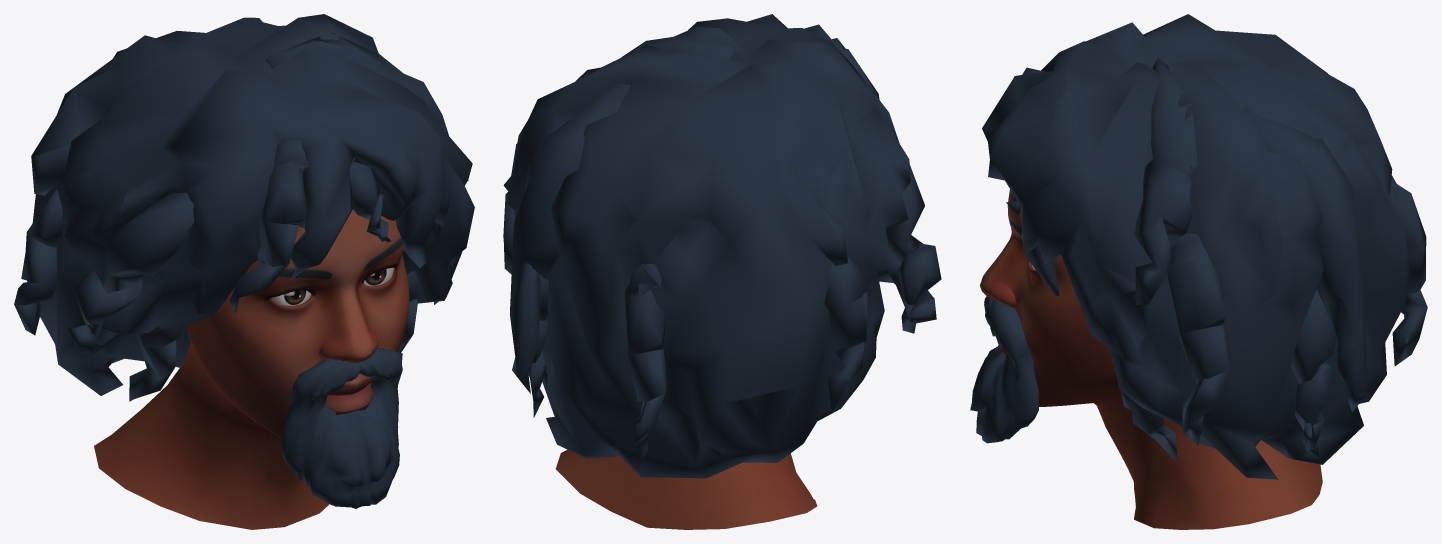
The model's file is DPM.gltf.
3 renders of one model, left to right at view 1: azimuth 30°, elevation 25°; view 2: azimuth 150°, elevation 25°; view 3: azimuth 270°, elevation 25°, orthographic. The views are drawn at different scales.
Parts seen in each view (by area): view 1: Wolf3D_Hair, Wolf3D_Head, Wolf3D_Beard; view 2: Wolf3D_Hair, Wolf3D_Head; view 3: Wolf3D_Hair, Wolf3D_Head, Wolf3D_Beard.
Part boxes in pixels (x1,y1,x2,y2): Wolf3D_Hair: [14, 14, 474, 401]; Wolf3D_Head: [94, 209, 409, 529]; Wolf3D_Beard: [281, 347, 402, 508]; Wolf3D_Hair: [503, 14, 941, 478]; Wolf3D_Head: [555, 449, 817, 529]; Wolf3D_Hair: [982, 14, 1427, 479]; Wolf3D_Head: [980, 189, 1322, 529]; Wolf3D_Beard: [970, 296, 1038, 443].
Bounding box in the file's own units: 0.4575 × 0.5038 × 0.4538.
Materials: 6 (6 with a texture image).
